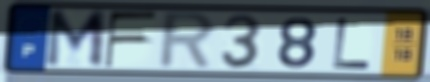3: (219, 12, 266, 71)
8: (277, 16, 319, 69)
F: (103, 10, 161, 70)
L: (330, 16, 375, 71)
M: (42, 8, 109, 71)
R: (155, 10, 218, 72)
